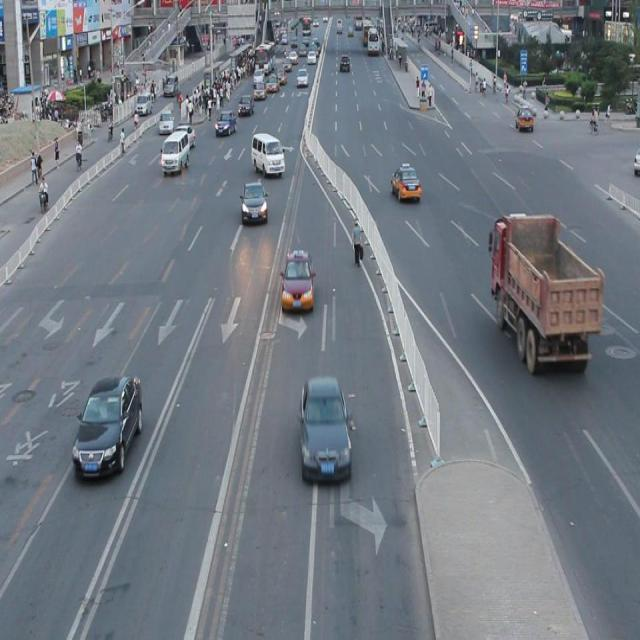bus: (491, 211, 601, 376)
car: (71, 374, 142, 479), (299, 372, 351, 480), (280, 251, 314, 312), (390, 163, 420, 203), (240, 180, 266, 224)
truck: (250, 130, 284, 176), (160, 129, 191, 174)
